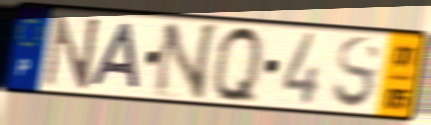4: (279, 31, 323, 109)
A: (87, 21, 143, 92)
N: (149, 21, 222, 101), (42, 13, 104, 90)
Q: (211, 22, 265, 109)
S: (329, 34, 384, 113)
